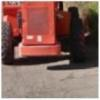tractors: (3, 3, 89, 66)
